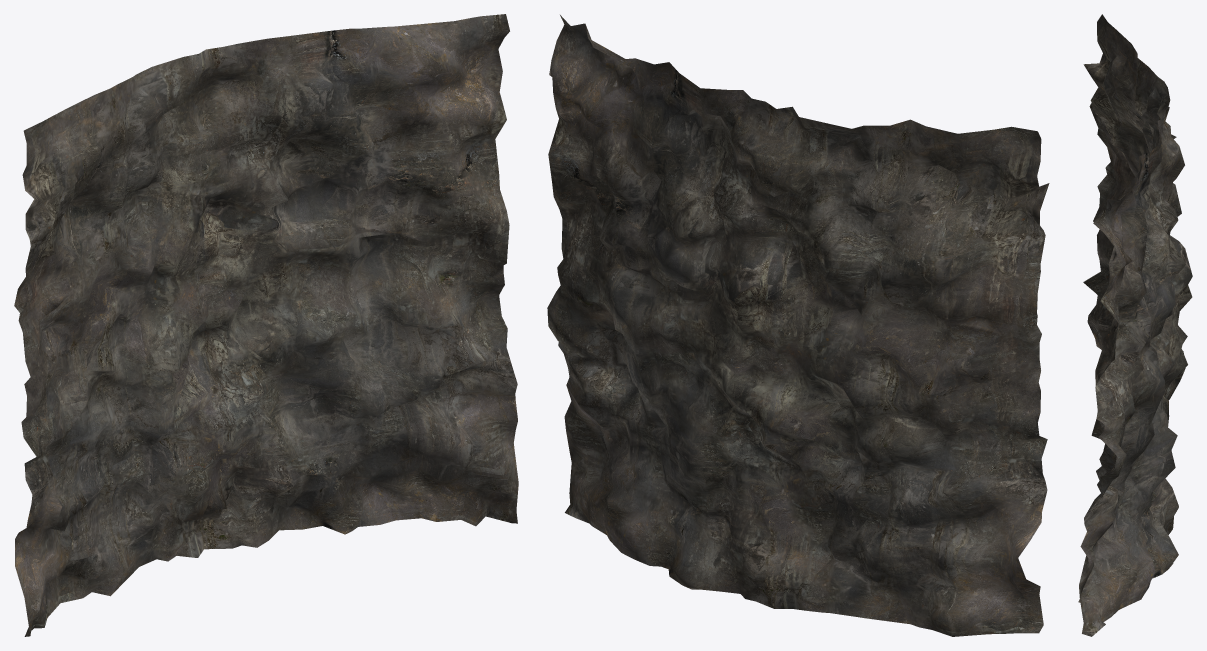
File: Wall_4.fbx
3 views of the same model, side by side, from view 1: azimuth 30°, elevation 25°; view 2: azimuth 150°, elevation 25°; view 3: azimuth 270°, elevation 25° (orthographic). The views are drawn at different scales.
Parts seen in each view (by area): view 1: Wall_4; view 2: Wall_4; view 3: Wall_4.
Part boxes in pixels (x1,y1,x2,y2): Wall_4: [14, 14, 518, 636]; Wall_4: [547, 15, 1049, 636]; Wall_4: [1078, 14, 1192, 636].
Size of the model in its own units: 406 by 404 by 97.9.
